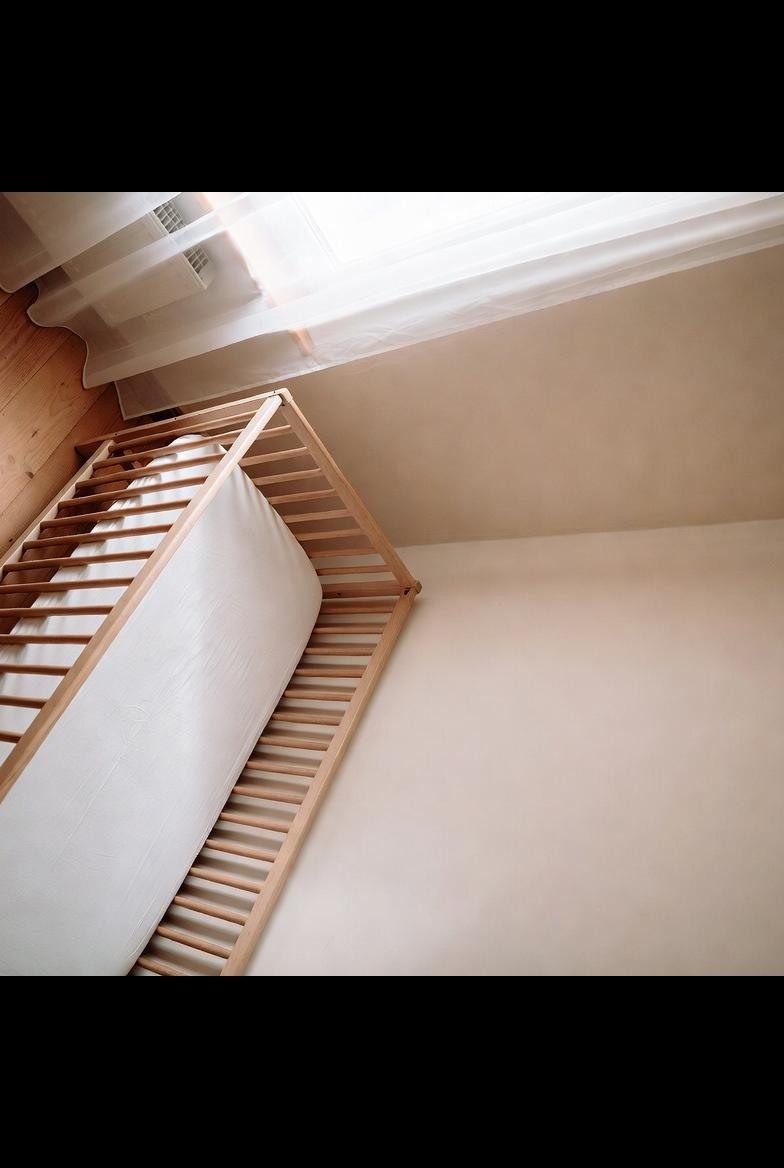crib: (0, 390, 426, 976)
